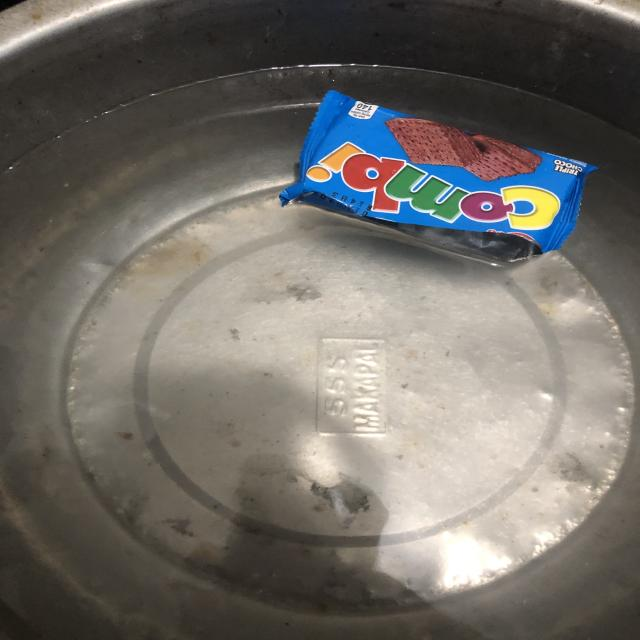Plastic Wrapper: (252, 62, 626, 286)
